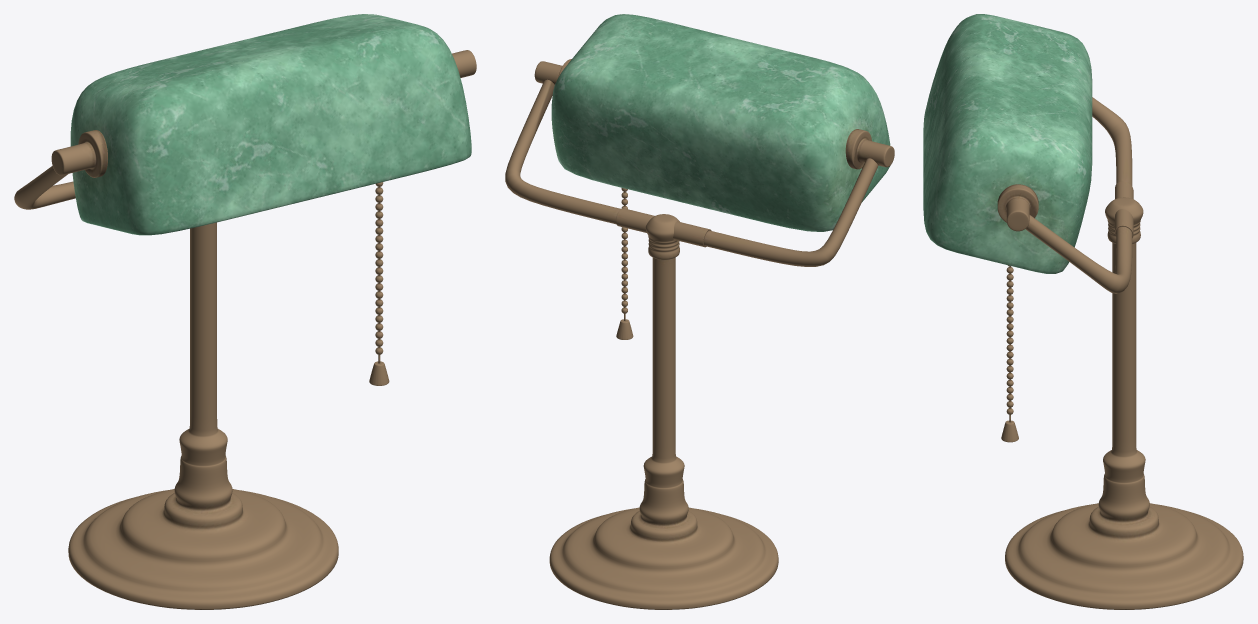
File: bankers-lamp.glb
The picture shows the model from 3 angles, left to right: view 1: azimuth 30°, elevation 25°; view 2: azimuth 150°, elevation 25°; view 3: azimuth 270°, elevation 25°; orthographic projection. The views are drawn at different scales.
Parts seen in each view (by area): view 1: pCube1, pCylinder1, pCylinder5, pCylinder4; view 2: pCube1, pCylinder1, pCylinder4, pCylinder5, pCylinder6; view 3: pCube1, pCylinder1, pCylinder4, pCylinder6.
Part boxes in pixels (x1,y1,x2,y2): pCube1: (70,14,471,235); pCylinder1: (68,222,338,609); pCylinder5: (51,130,107,177); pCylinder4: (14,166,75,209); pCube1: (551,14,890,231); pCylinder1: (549,214,778,609); pCylinder4: (505,79,878,266); pCylinder5: (845,129,894,169); pCylinder6: (534,59,571,84); pCube1: (923,14,1092,273); pCylinder1: (1005,197,1243,609); pCylinder4: (1025,97,1133,293); pCylinder6: (997,184,1038,231).
Bounding box in the file's own units: 1.56 × 2.01 × 1.18.
Materials: 1 (1 with a texture image).
